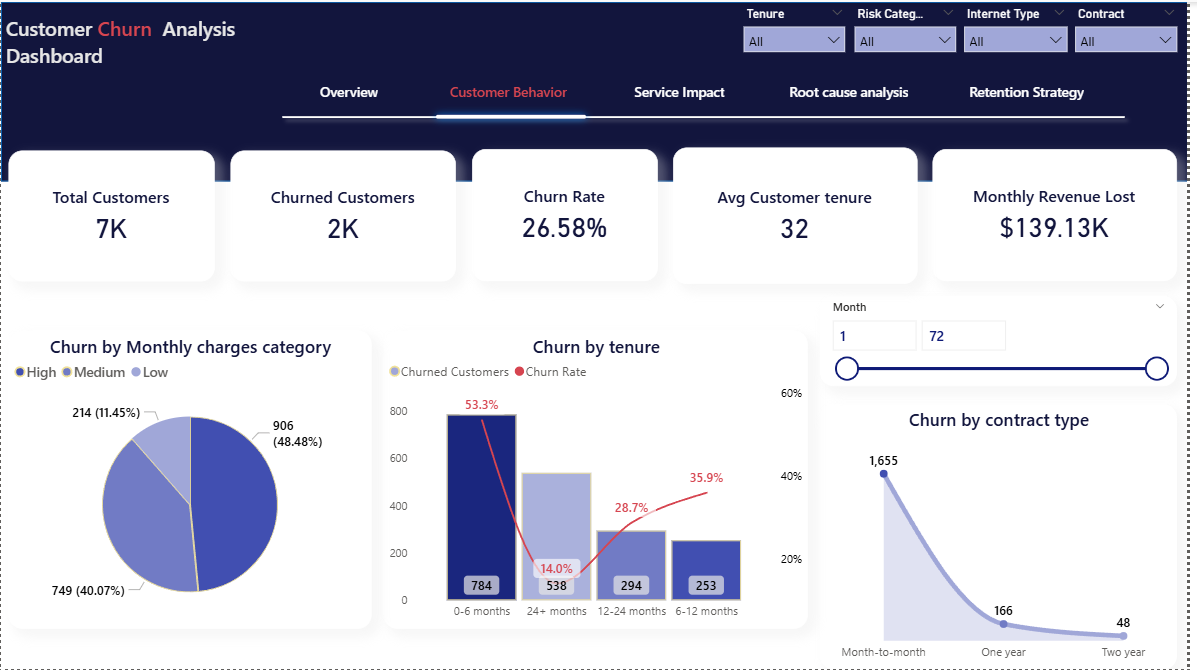

This screenshot's page, from the dashboard's own definition file:
{"tool":"powerbi","page":{"name":"Customer Behavior","canvas":[1280,720],"ordinal":1},"visuals":[{"type":"shape","box":[0,0,1281.2,193.8],"z":0},{"type":"textbox","box":[0,8.1,307.7,76.1],"z":1000},{"type":"areaChart","title":"Churn by contract type","fields":{"Category":["Churn_master.contract"],"Y":["Measure.Churned Customers"]},"box":[884.1,434,385.4,286.6],"z":2000},{"type":"lineClusteredColumnComboChart","title":"Churn by tenure","fields":{"Category":["Churn_master.tenure_group"],"Y":["Measure.Churned Customers"],"Y2":["Measure.Churn Rate"]},"box":[412.9,354.6,458.2,322.2],"z":3000},{"type":"cardVisual","title":"Total Customers","fields":{"Data":["Measure.Churn Rate"]},"box":[507.8,159.4,200.8,142.5],"z":4000},{"type":"cardVisual","title":"Total Customers","fields":{"Data":["Measure.Churned Customers"]},"box":[248,159.9,243.4,141.6],"z":5000},{"type":"cardVisual","title":"Total Customers","fields":{"Data":["Measure.Monthly Revenue Lost"]},"box":[1005.5,159.4,263.9,142.5],"z":6000},{"type":"cardVisual","fields":{"Data":["Measure.Total Customers"]},"box":[8.8,159.9,222.7,141.6],"z":7000},{"type":"slicer","fields":{"Values":["Churn_master.tenure"]},"box":[884.1,317.4,385.4,97.2],"z":8000},{"type":"pieChart","title":"Churn by Monthly charges category","fields":{"Category":["Churn_master.Monthly charge category"],"Y":["Measure.Churned Customers"]},"box":[8.1,354.6,391.9,322.2],"z":9000},{"type":"cardVisual","fields":{"Data":["Measure.Average Customer tenure"]},"box":[725.1,157,263.9,147.3],"z":10000},{"type":"actionButton","box":[326.1,76.3,100.2,39.8],"z":11000},{"type":"actionButton","box":[478,76.3,140,39.8],"z":12000},{"type":"actionButton","box":[669.6,76.3,124.1,39.8],"z":13000},{"type":"actionButton","box":[845.4,76.3,140,39.8],"z":14000},{"type":"actionButton","box":[1037.1,76.3,141.6,39.8],"z":15000},{"type":"shape","box":[294.3,100.2,927.3,47.7],"z":16000},{"type":"shape","box":[461.5,93.9,178.1,59.9],"z":17000},{"type":"slicer","fields":{"Values":["Churn_master.contract"]},"box":[1150,0,130,55],"z":18000},{"type":"slicer","fields":{"Values":["Churn_master.Internet Type"]},"box":[1029.8,0,131.2,55.1],"z":19000},{"type":"slicer","fields":{"Values":["Churn_master.Risk Category"]},"box":[910.8,0,129.5,55.1],"z":20000},{"type":"slicer","fields":{"Values":["Churn_master.tenure_group"]},"box":[791.8,0,129.5,55.1],"z":21000}]}

Visuals, with their boxes in screenshot pixels (x1, y1, x2, y2), scaled from the page's 1280x720 canvas onto the 1197x670 screenshot:
shape: <bbox>0, 0, 1196, 180</bbox>
textbox: <bbox>0, 8, 288, 78</bbox>
"Churn by contract type" areaChart: <bbox>827, 404, 1187, 669</bbox>
"Churn by tenure" lineClusteredColumnComboChart: <bbox>386, 330, 815, 630</bbox>
"Total Customers" cardVisual: <bbox>475, 148, 663, 281</bbox>
"Total Customers" cardVisual: <bbox>232, 149, 460, 281</bbox>
"Total Customers" cardVisual: <bbox>940, 148, 1187, 281</bbox>
cardVisual - Measure.Total Customers: <bbox>8, 149, 216, 281</bbox>
slicer - Churn_master.tenure: <bbox>827, 295, 1187, 386</bbox>
"Churn by Monthly charges category" pieChart: <bbox>8, 330, 374, 630</bbox>
cardVisual - Measure.Average Customer tenure: <bbox>678, 146, 925, 283</bbox>
actionButton: <bbox>305, 71, 399, 108</bbox>
actionButton: <bbox>447, 71, 578, 108</bbox>
actionButton: <bbox>626, 71, 742, 108</bbox>
actionButton: <bbox>791, 71, 922, 108</bbox>
actionButton: <bbox>970, 71, 1102, 108</bbox>
shape: <bbox>275, 93, 1142, 138</bbox>
shape: <bbox>432, 87, 598, 143</bbox>
slicer - Churn_master.contract: <bbox>1075, 0, 1196, 51</bbox>
slicer - Churn_master.Internet Type: <bbox>963, 0, 1086, 51</bbox>
slicer - Churn_master.Risk Category: <bbox>852, 0, 973, 51</bbox>
slicer - Churn_master.tenure_group: <bbox>740, 0, 862, 51</bbox>
